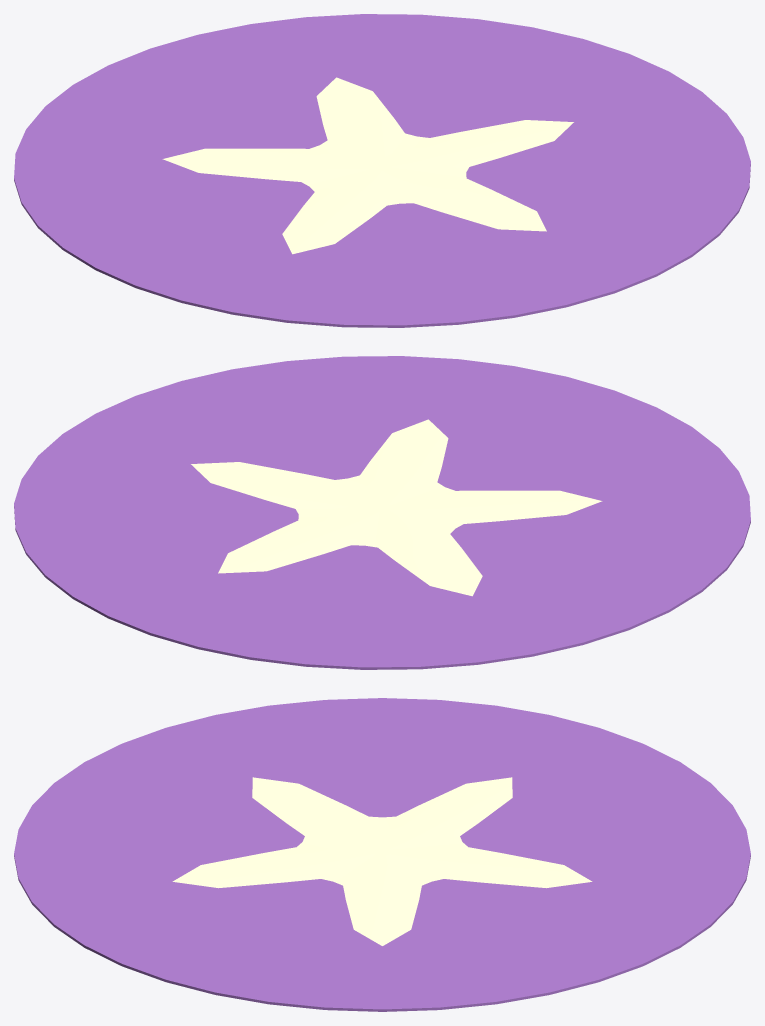
The model's file is StarRug.fbx.
3 views of the same model, one above another, from view 1: azimuth 30°, elevation 25°; view 2: azimuth 150°, elevation 25°; view 3: azimuth 270°, elevation 25° (orthographic).
Visible parts, largest first — view 1: StarRug; view 2: StarRug; view 3: StarRug.
Boxes of the visible parts, x1,y1,x2,y2 form: StarRug: (14, 14, 750, 327); StarRug: (14, 356, 750, 669); StarRug: (14, 698, 750, 1011).
Size of the model in its own units: 8 by 0.06 by 8.
